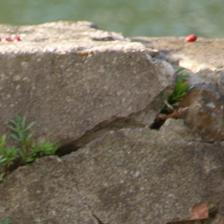Crack: (10, 86, 182, 176)
